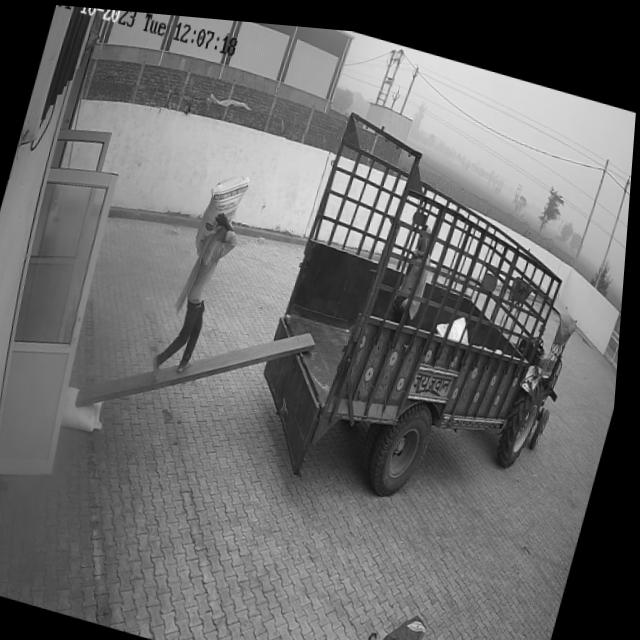sack: (196, 162, 253, 259), (65, 382, 116, 433)
